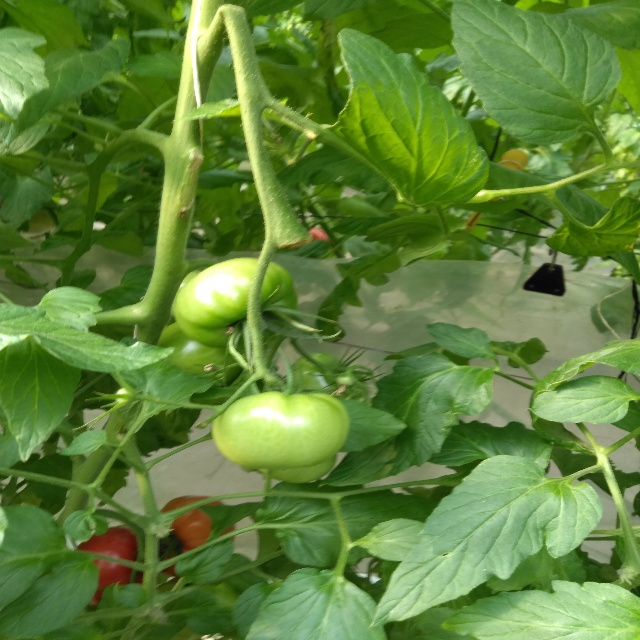b_fully_ripened: (74, 524, 143, 606)
b_green: (172, 257, 296, 350), (209, 391, 350, 470), (157, 321, 249, 386), (288, 352, 369, 405), (253, 453, 336, 485), (113, 386, 130, 404)
b_half_ripened: (158, 495, 236, 578)
